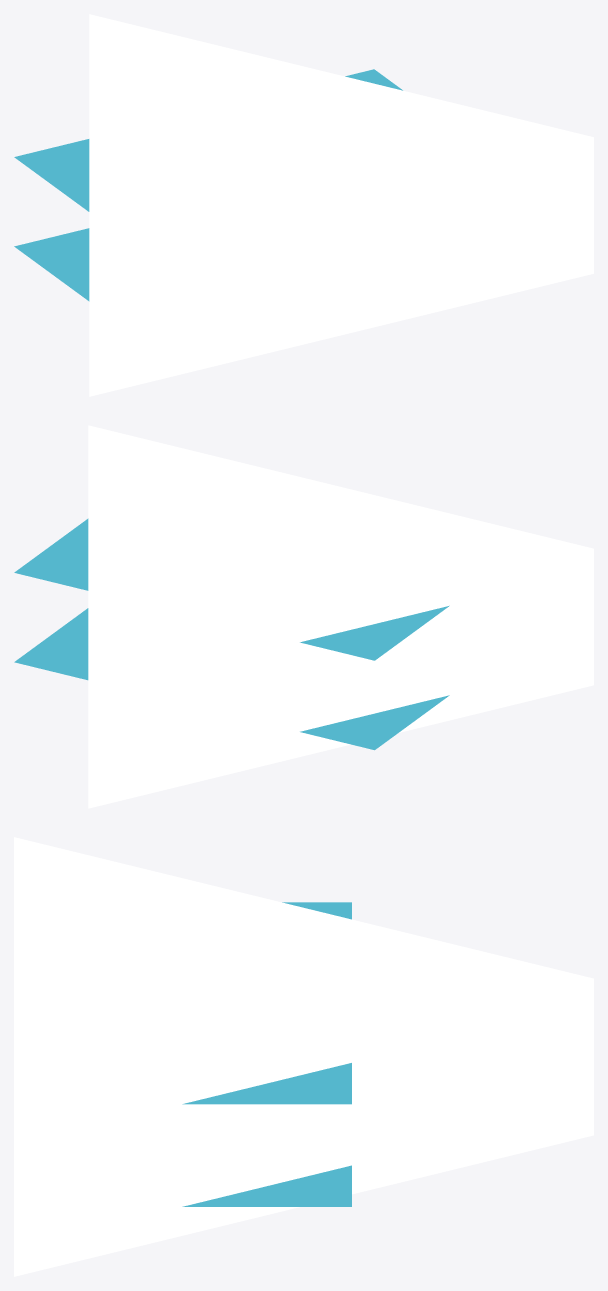
Rendered from room.gltf.
The picture shows the model from 3 angles, top to bottom: view 1: azimuth 30°, elevation 25°; view 2: azimuth 150°, elevation 25°; view 3: azimuth 270°, elevation 25°; orthographic projection. The views are drawn at different scales.
Visible parts, largest first — view 1: 柱体; view 2: 柱体; view 3: 柱体.
Part boxes in pixels (bbox=[...]): 柱体: bbox=[14, 14, 593, 396]; 柱体: bbox=[14, 425, 593, 808]; 柱体: bbox=[14, 837, 593, 1276].
Size of the model in its own units: 301 by 77.81 by 261.
